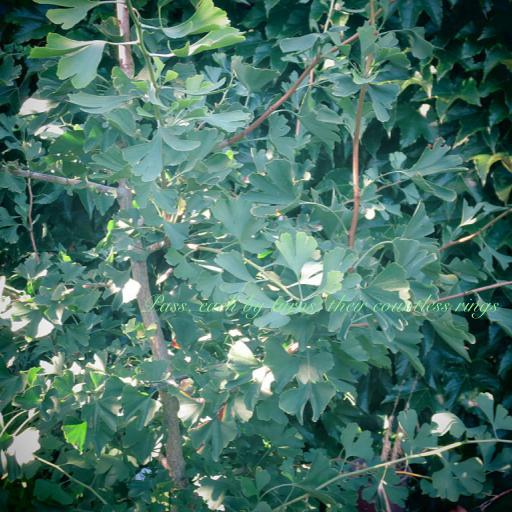Snell Roundhand: (141, 293, 499, 319)
